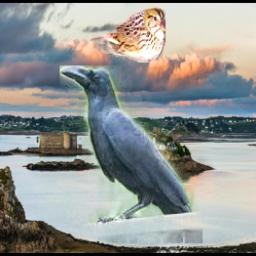Crow: (61, 65, 204, 243)
Sparrow: (89, 6, 166, 63)
